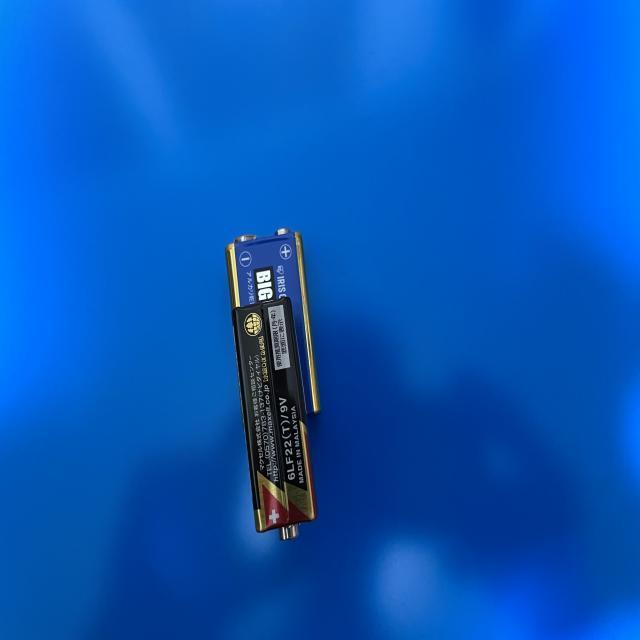9V: (232, 297, 320, 542), (225, 223, 322, 425)
